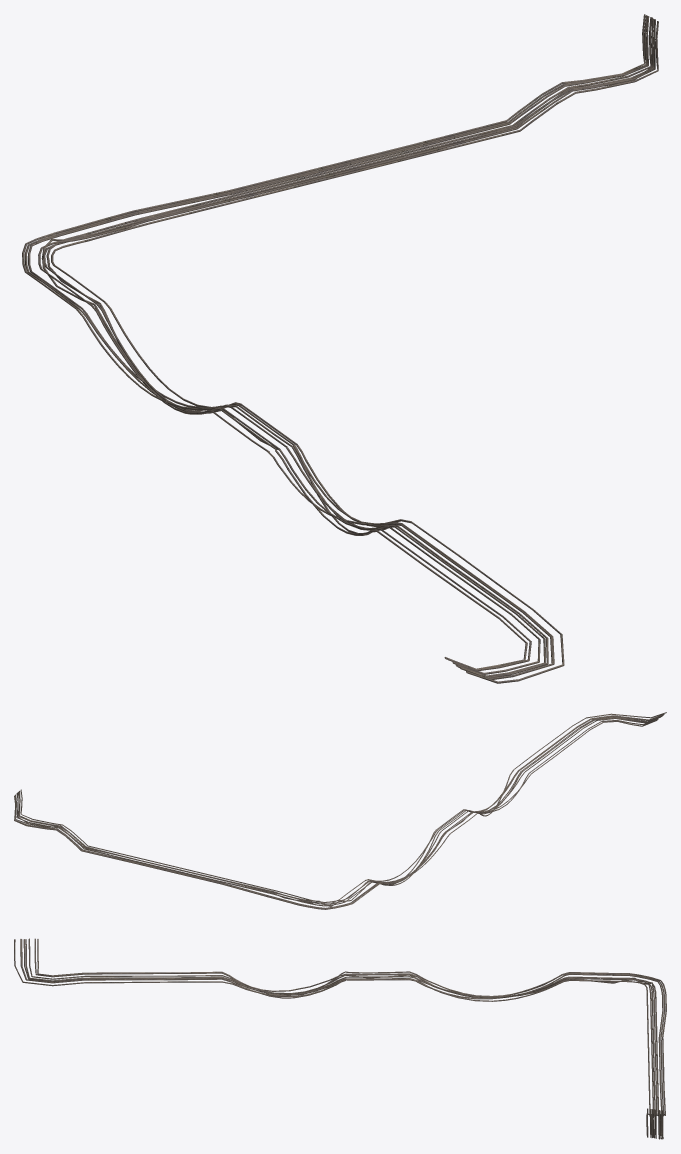
File: Corridor_01_CableMass_00.fbx
3 views of the same model, one above another, from view 1: azimuth 30°, elevation 25°; view 2: azimuth 150°, elevation 25°; view 3: azimuth 270°, elevation 25° (orthographic). The views are drawn at different scales.
Parts seen in each view (by area): view 1: Corridor_01_CableMass_00; view 2: Corridor_01_CableMass_00; view 3: Corridor_01_CableMass_00.
Part boxes in pixels (x1=…): Corridor_01_CableMass_00: x1=22, y1=14, x2=658, y2=683; Corridor_01_CableMass_00: x1=14, y1=712, x2=666, y2=909; Corridor_01_CableMass_00: x1=14, y1=938, x2=666, y2=1139.
Bounding box in the file's own units: 2101 × 324 × 2774.
